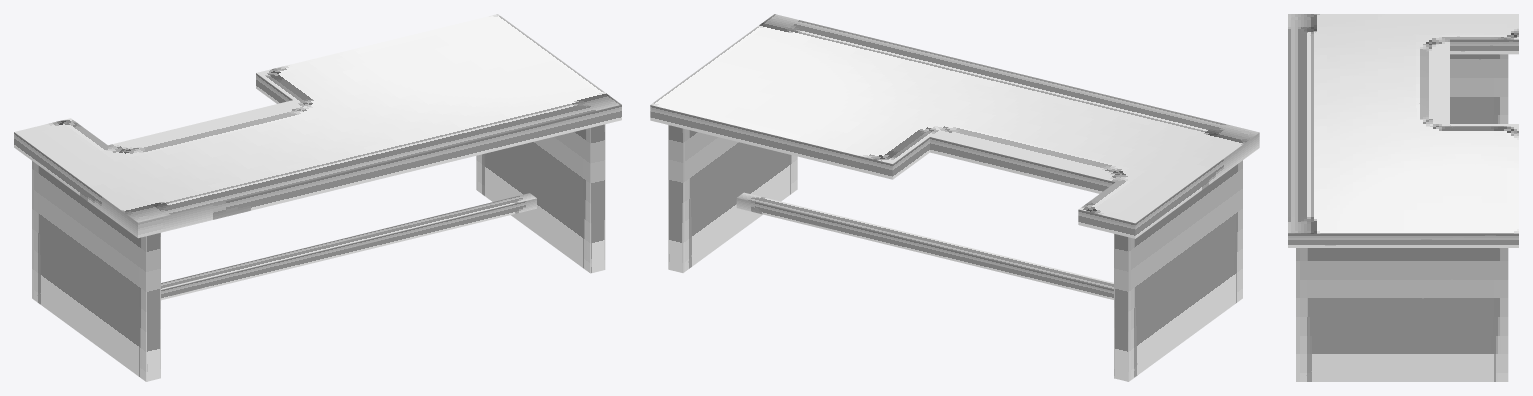
Rendered from Building_SchoolDesk.glb.
3 renders of one model, left to right at view 1: azimuth 30°, elevation 25°; view 2: azimuth 150°, elevation 25°; view 3: azimuth 270°, elevation 25°, orthographic. The views are drawn at different scales.
Parts seen in each view (by area): view 1: SchoolDesk; view 2: SchoolDesk; view 3: SchoolDesk.
Part boxes in pixels (x1,y1,x2,y2): SchoolDesk: [14, 14, 621, 381]; SchoolDesk: [650, 14, 1259, 381]; SchoolDesk: [1288, 14, 1518, 381].
Bounding box in the file's own units: 1.96 × 0.64 × 0.87.
1 material, 1 textured.
